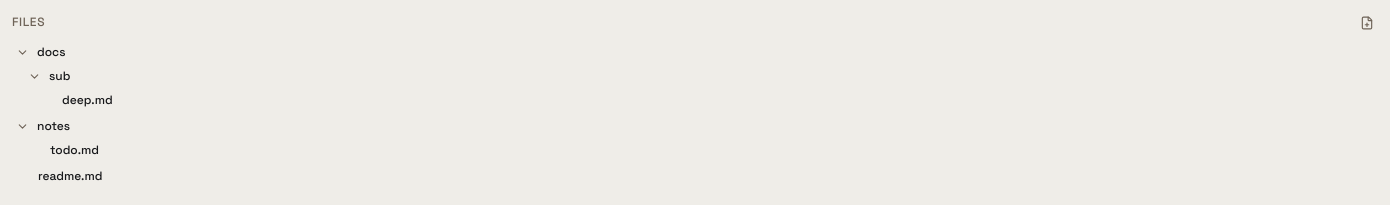
Scenario: <FileTree /> › collapses and re-expands a directory
Expected: the button "todo.md" is shown, [50,142,1349,158]
What coordinates should you click on to do the following:
click the button named "Collapse notes"
I would click on:
 (22, 126)
Its box is [12,116,33,136].
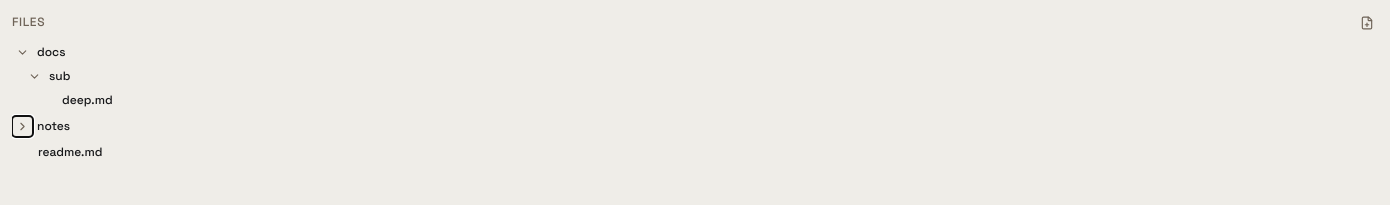
Expected: the button "todo.md" is gone
What coordinates should you click on to do the following:
click the button named "Expand notes"
I would click on:
 (22, 126)
Its box is [12,116,33,136].
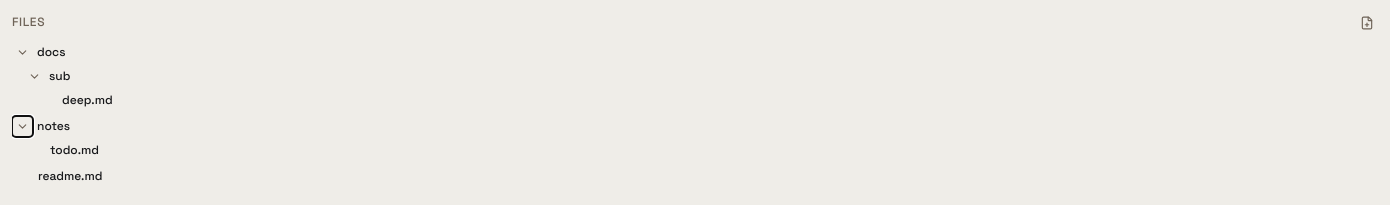
Expected: the button "todo.md" is shown, [50,142,1349,158]
